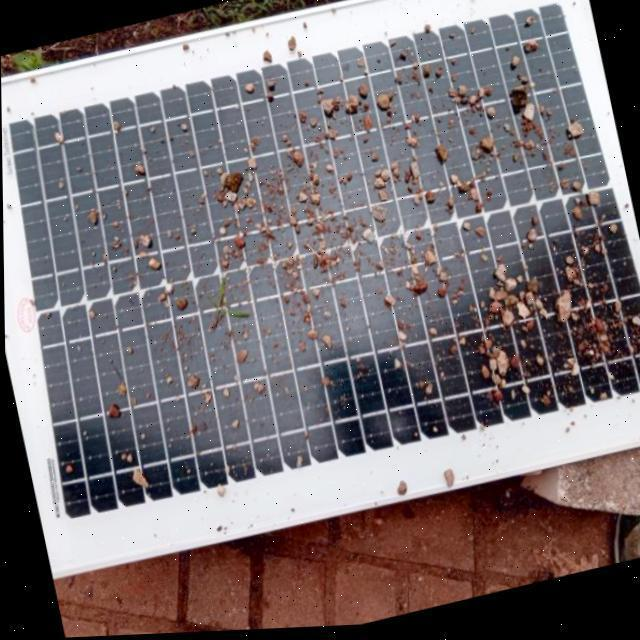Surface Contaminant: (1, 0, 640, 574)
